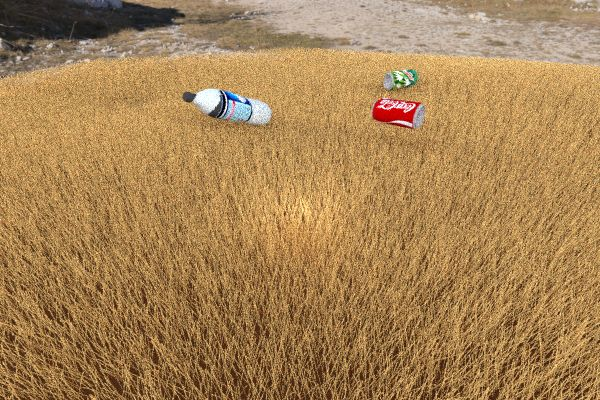bottle: (182, 88, 272, 126)
can: (371, 97, 425, 129), (383, 69, 418, 90)
